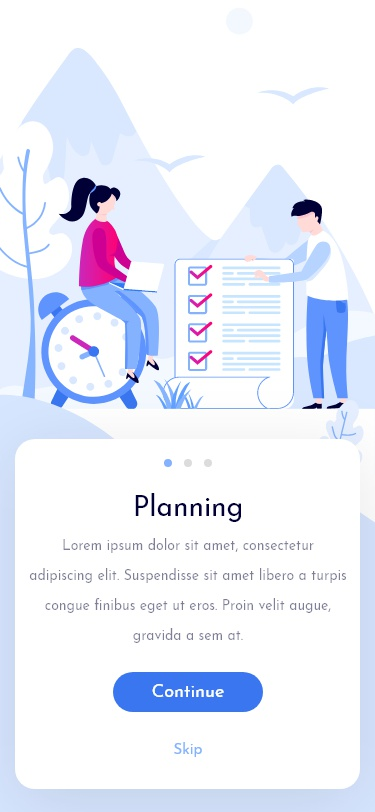Card: (15, 439, 361, 790)
Image: (1, 7, 375, 440)
PageIndicator: (164, 458, 214, 469)
Text: (30, 538, 347, 644), (135, 492, 242, 523), (174, 741, 203, 758)
TextButton: (113, 672, 264, 713)
